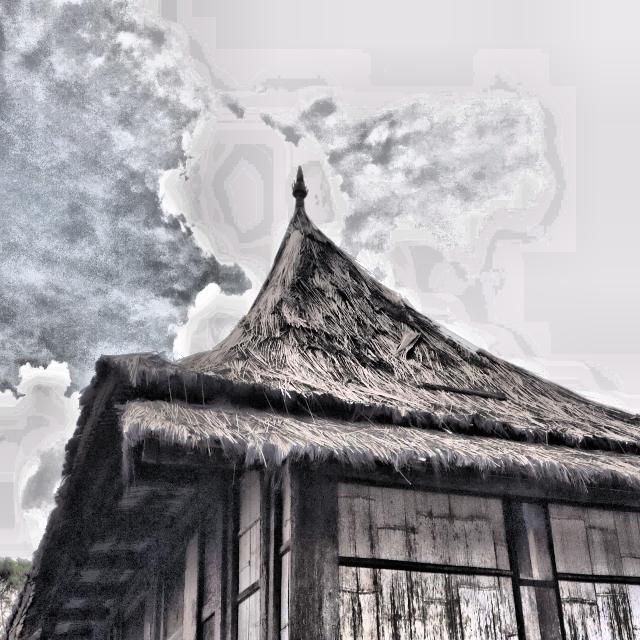roof: (1, 166, 640, 639)
wall: (105, 468, 640, 640)
